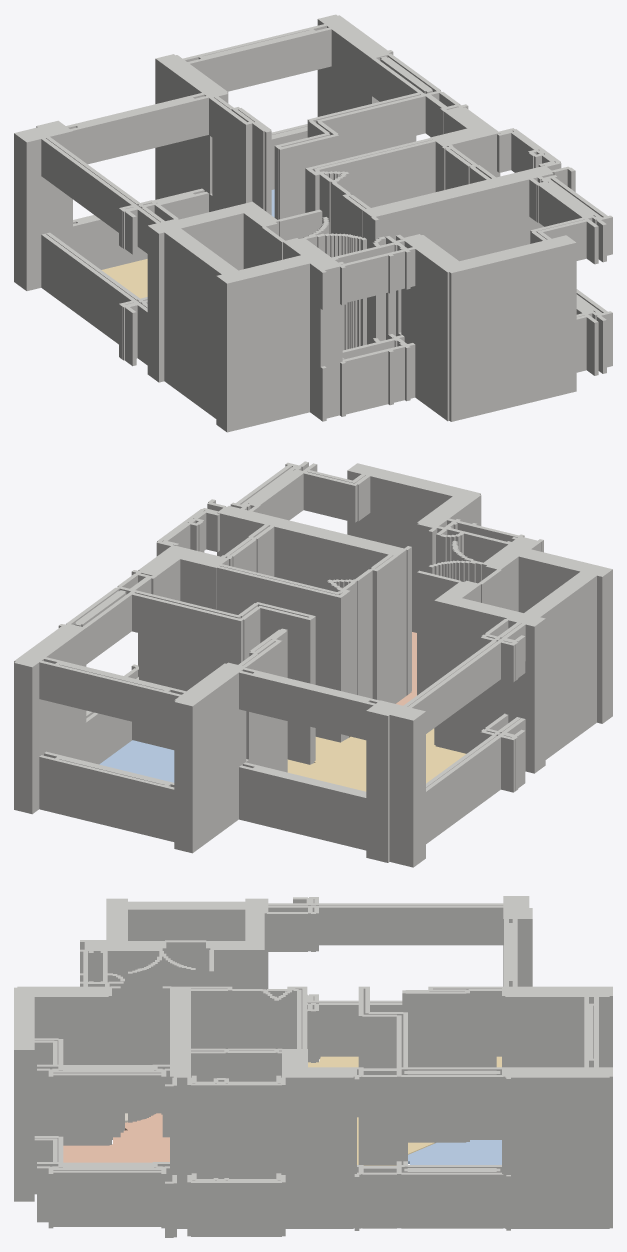
3 renders of one model, top to bottom at view 1: azimuth 30°, elevation 25°; view 2: azimuth 150°, elevation 25°; view 3: azimuth 270°, elevation 25°, orthographic. The views are drawn at different scales.
Visible parts, largest first — view 1: walls, room:living:0; view 2: walls, room:living:0, room:bedroom:1; view 3: walls, room:kitchen:4, room:bedroom:1, room:living:0.
Boxes of the visible parts, bbox=[...] form: walls: bbox=[14, 14, 612, 432]; room:living:0: bbox=[101, 259, 147, 298]; walls: bbox=[14, 461, 612, 867]; room:living:0: bbox=[287, 728, 465, 791]; room:bedroom:1: bbox=[99, 740, 174, 782]; walls: bbox=[14, 896, 612, 1237]; room:kitchen:4: bbox=[63, 1113, 169, 1162]; room:bedroom:1: bbox=[408, 1140, 501, 1164]; room:living:0: bbox=[308, 1056, 501, 1165].
Size of the model in its own units: 7.54 by 2.8 by 10.02.
